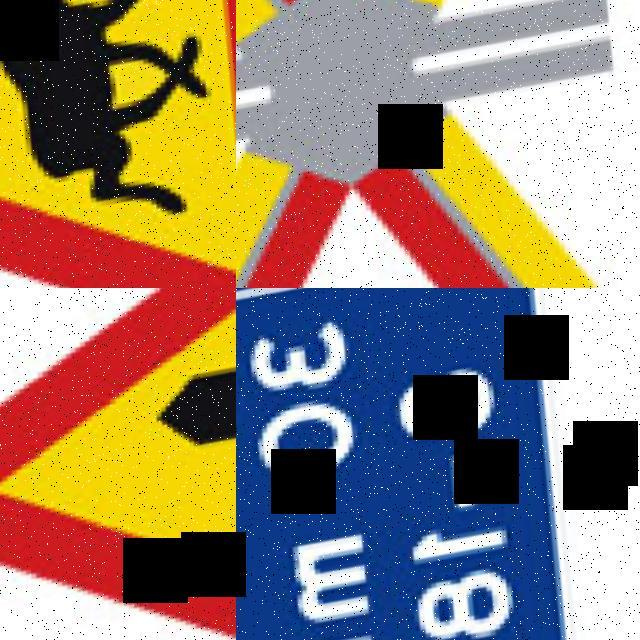120: (236, 288, 630, 640)
139: (0, 288, 236, 640)
62: (236, 0, 640, 288)
warning wild animal: (0, 0, 236, 288)
